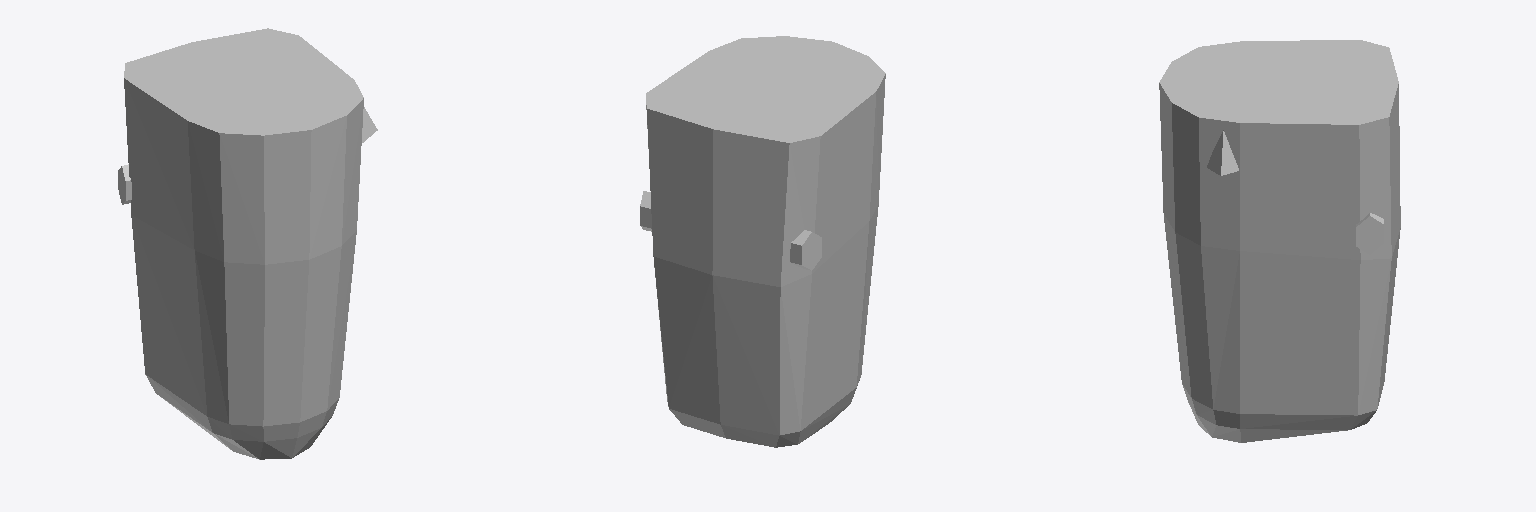
Rendered from test43.acii.OBJ.
3 views of the same model, side by side, from view 1: azimuth 30°, elevation 25°; view 2: azimuth 150°, elevation 25°; view 3: azimuth 270°, elevation 25° (orthographic).
Bounding box in the file's own units: 0.8979 × 1.59 × 1.02.